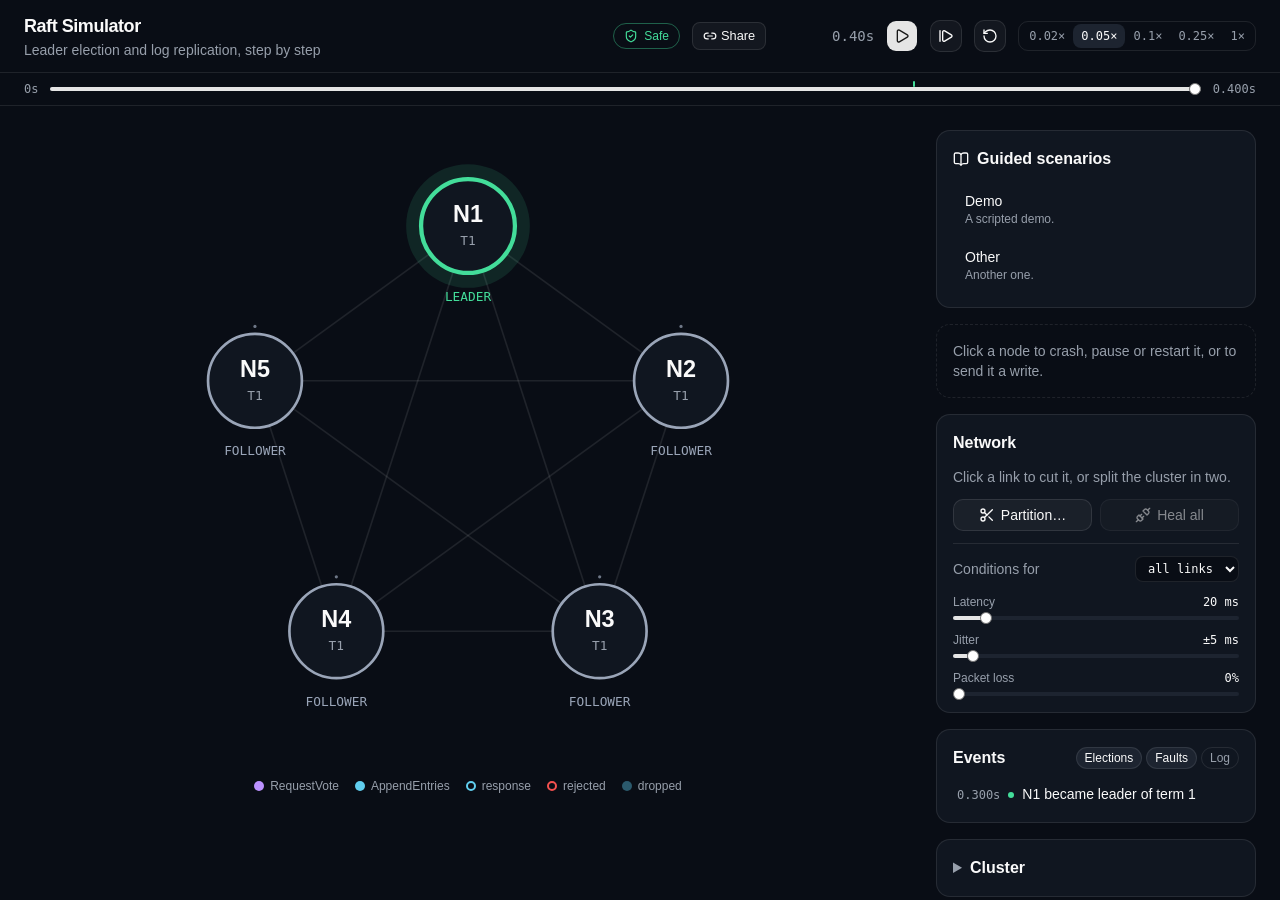
Scenario: an emptied field is reported instead of silently replaced
The width and height of the screenshot is (1280, 900).
Click the heading "Cluster" at [997, 868], box [970,859,1025,876]
(page scrolled)
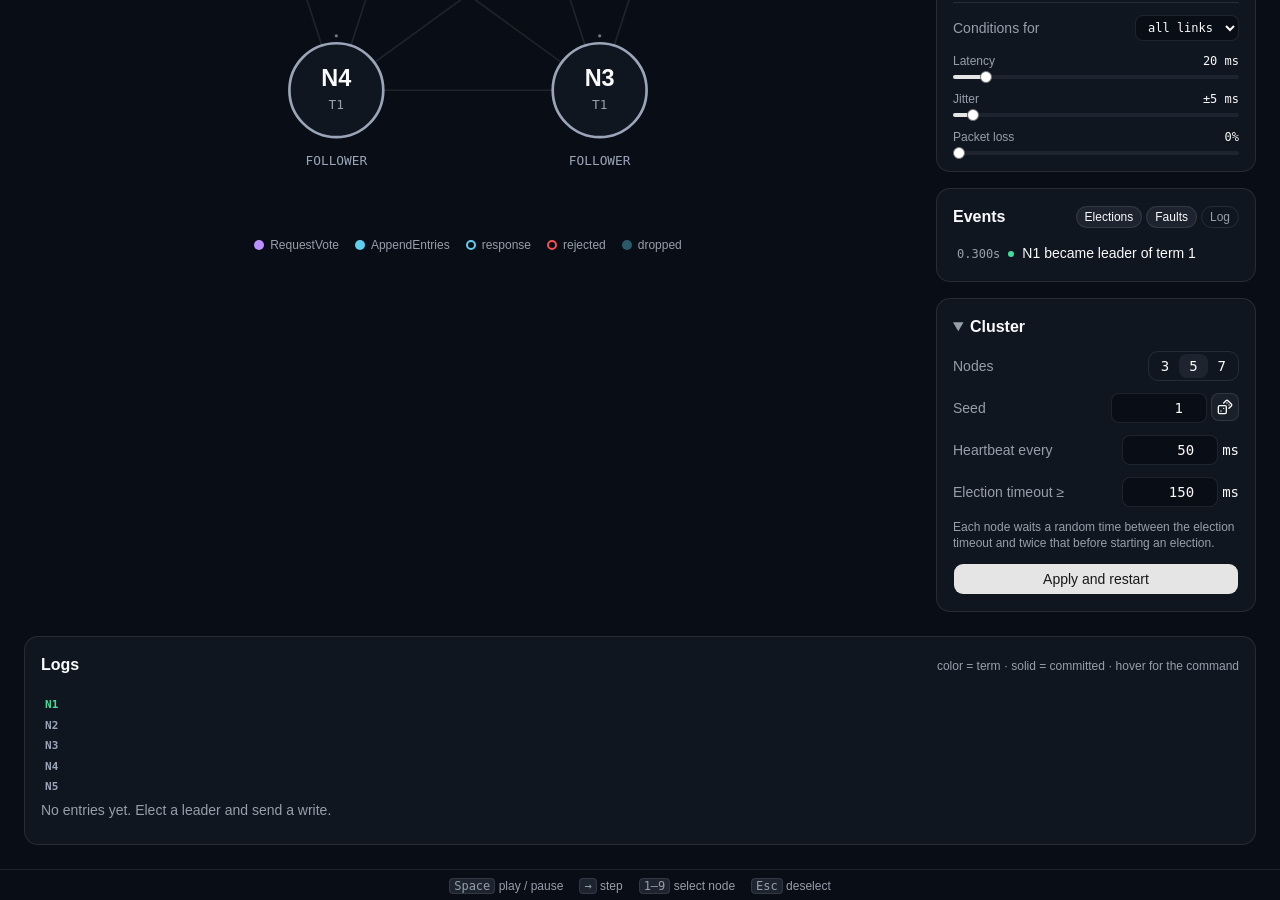
Clear the number field labelled "Heartbeat every ms" at [1170, 450], box [1122,435,1218,465]
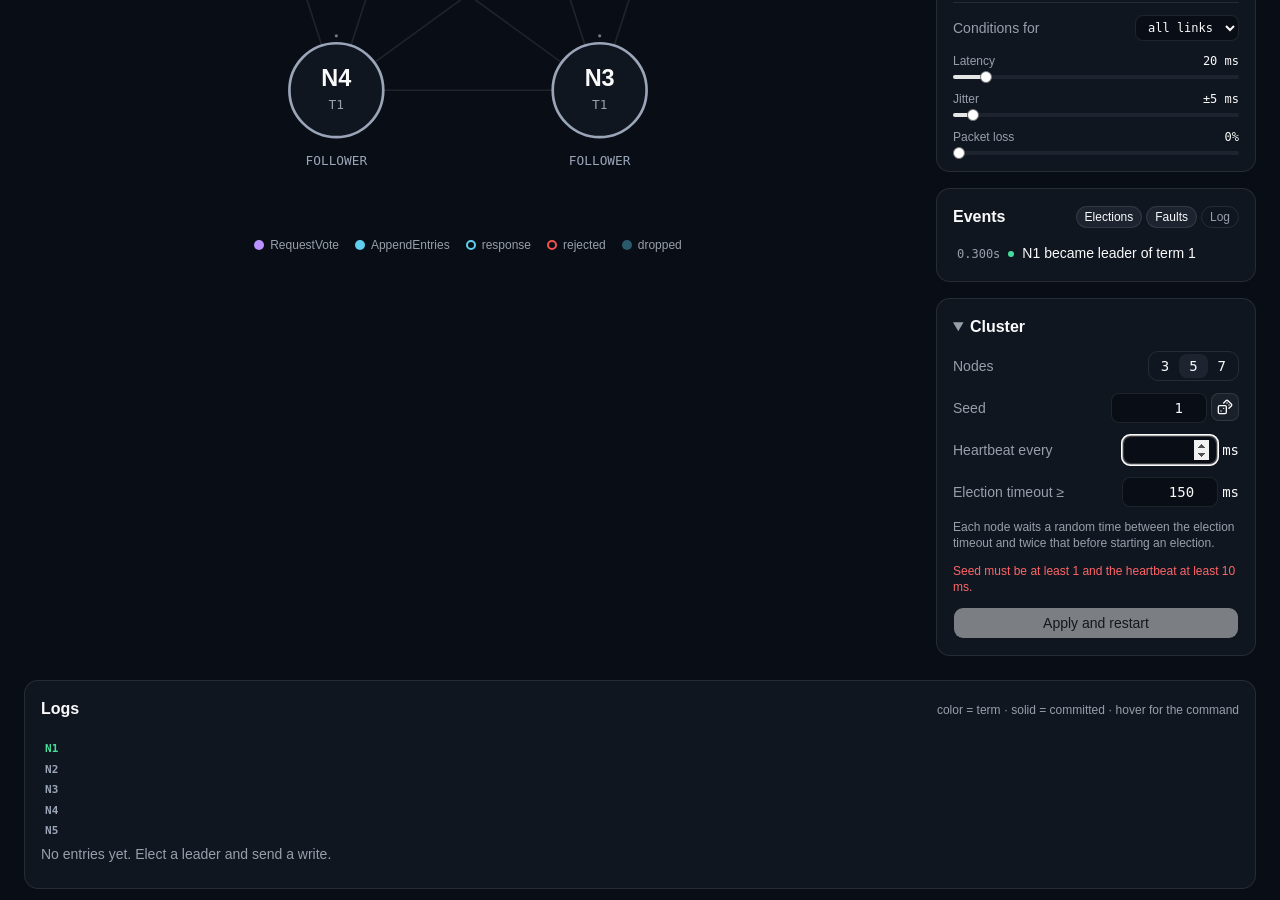
Expected: the message shows "heartbeat at least 10 ms", [953,564,1235,594]
